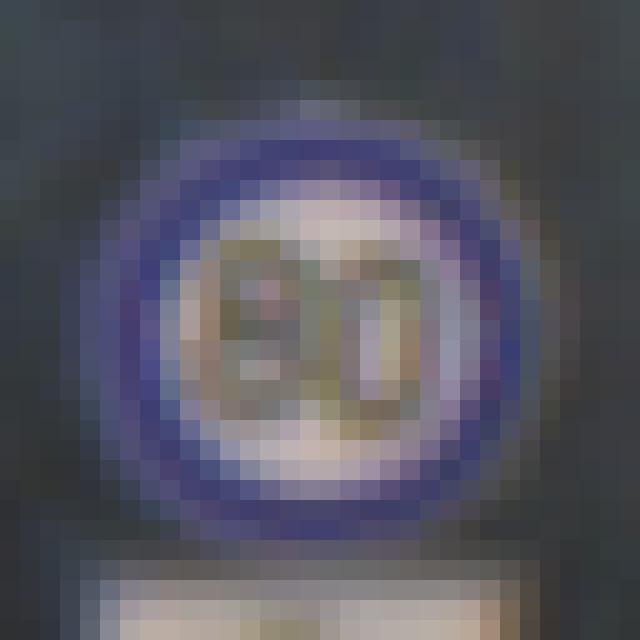SPEED-LIMIT-80: (80, 120, 542, 546)
